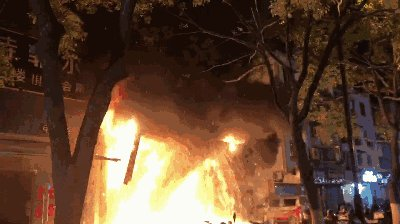fire: (94, 116, 235, 224), (223, 134, 240, 153)
